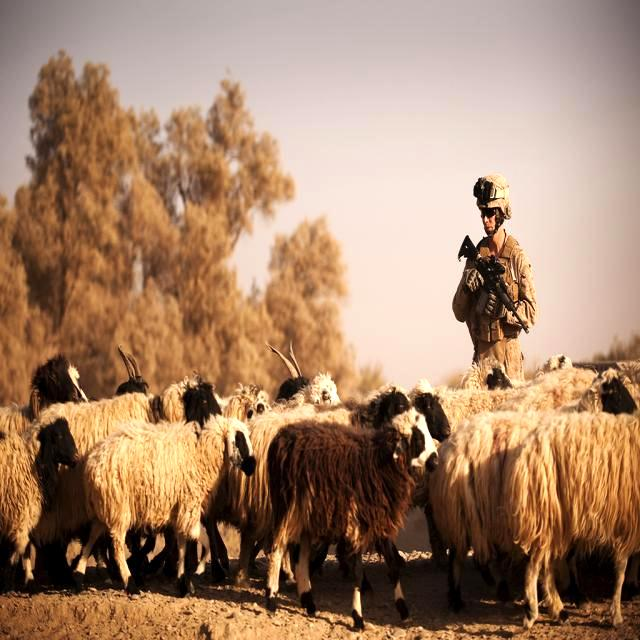sheep: (76, 418, 250, 580)
